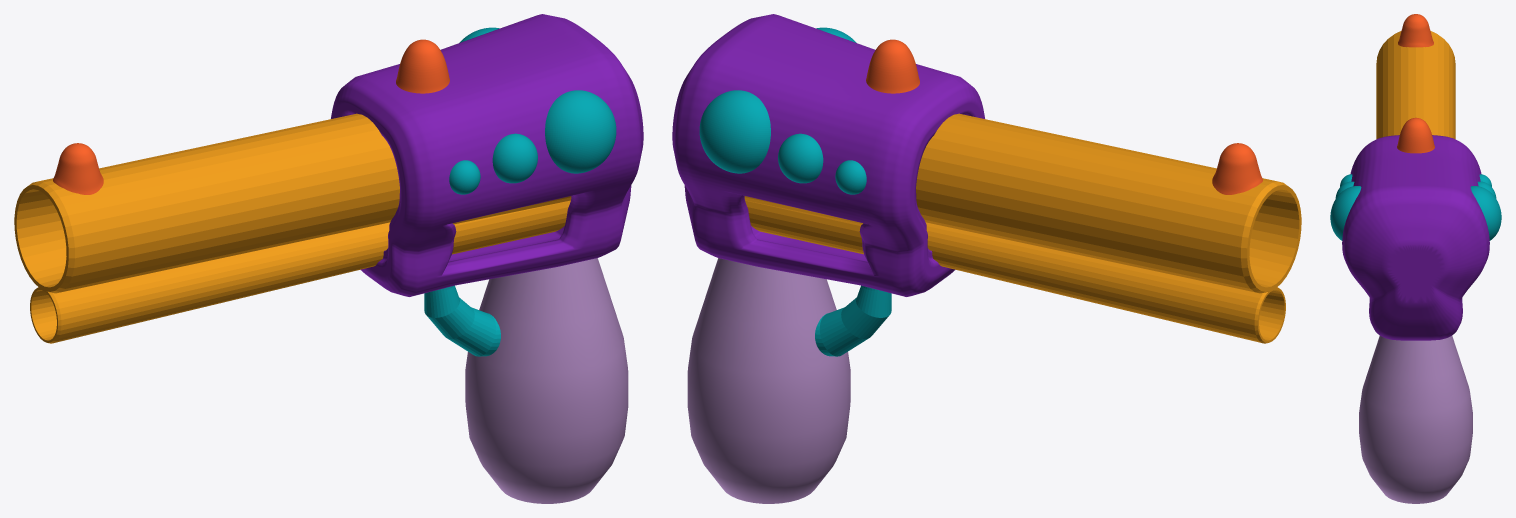
Rendered from ShortGun.fbx.
3 renders of one model, left to right at view 1: azimuth 30°, elevation 25°; view 2: azimuth 150°, elevation 25°; view 3: azimuth 270°, elevation 25°, orthographic. The views are drawn at different scales.
Parts seen in each view (by area): view 1: UpperCase, CanonUp, HandleBig, CanonDown, UpperCaseDetail3, HandleLow, DetalUp, DetailDown, UpperCaseDetail2, UpperCaseDetail1; view 2: UpperCase, CanonUp, HandleBig, CanonDown, UpperCaseDetail3, HandleLow, DetalUp, DetailDown, UpperCaseDetail2, UpperCaseDetail1; view 3: UpperCase, HandleBig, CanonUp, UpperCaseDetail3, DetalUp, DetailDown, UpperCaseDetail2.
Boxes of the visible parts, bbox=[...] form: UpperCase: bbox=[331, 14, 643, 296]; CanonUp: bbox=[14, 113, 571, 293]; HandleBig: bbox=[465, 258, 628, 503]; CanonDown: bbox=[30, 200, 570, 343]; UpperCaseDetail3: bbox=[459, 27, 616, 173]; HandleLow: bbox=[424, 285, 500, 356]; DetalUp: bbox=[396, 39, 449, 93]; DetailDown: bbox=[53, 143, 103, 194]; UpperCaseDetail2: bbox=[492, 133, 537, 183]; UpperCaseDetail1: bbox=[449, 160, 480, 194]; UpperCase: bbox=[672, 14, 984, 296]; CanonUp: bbox=[744, 113, 1301, 293]; HandleBig: bbox=[687, 258, 850, 503]; CanonDown: bbox=[745, 200, 1285, 343]; UpperCaseDetail3: bbox=[699, 27, 856, 173]; HandleLow: bbox=[815, 285, 891, 356]; DetalUp: bbox=[866, 39, 919, 93]; DetailDown: bbox=[1212, 143, 1262, 194]; UpperCaseDetail2: bbox=[778, 133, 823, 183]; UpperCaseDetail1: bbox=[835, 160, 866, 194]; UpperCase: bbox=[1342, 135, 1489, 340]; HandleBig: bbox=[1359, 335, 1472, 503]; CanonUp: bbox=[1376, 31, 1455, 139]; UpperCaseDetail3: bbox=[1330, 186, 1501, 240]; DetalUp: bbox=[1397, 117, 1434, 153]; DetailDown: bbox=[1398, 14, 1433, 47]; UpperCaseDetail2: bbox=[1335, 181, 1496, 198].
Bounding box in the file's own units: 197 × 154 × 72.48.
